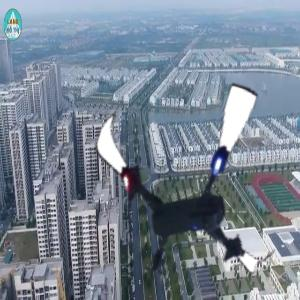drone: (75, 71, 297, 293)
